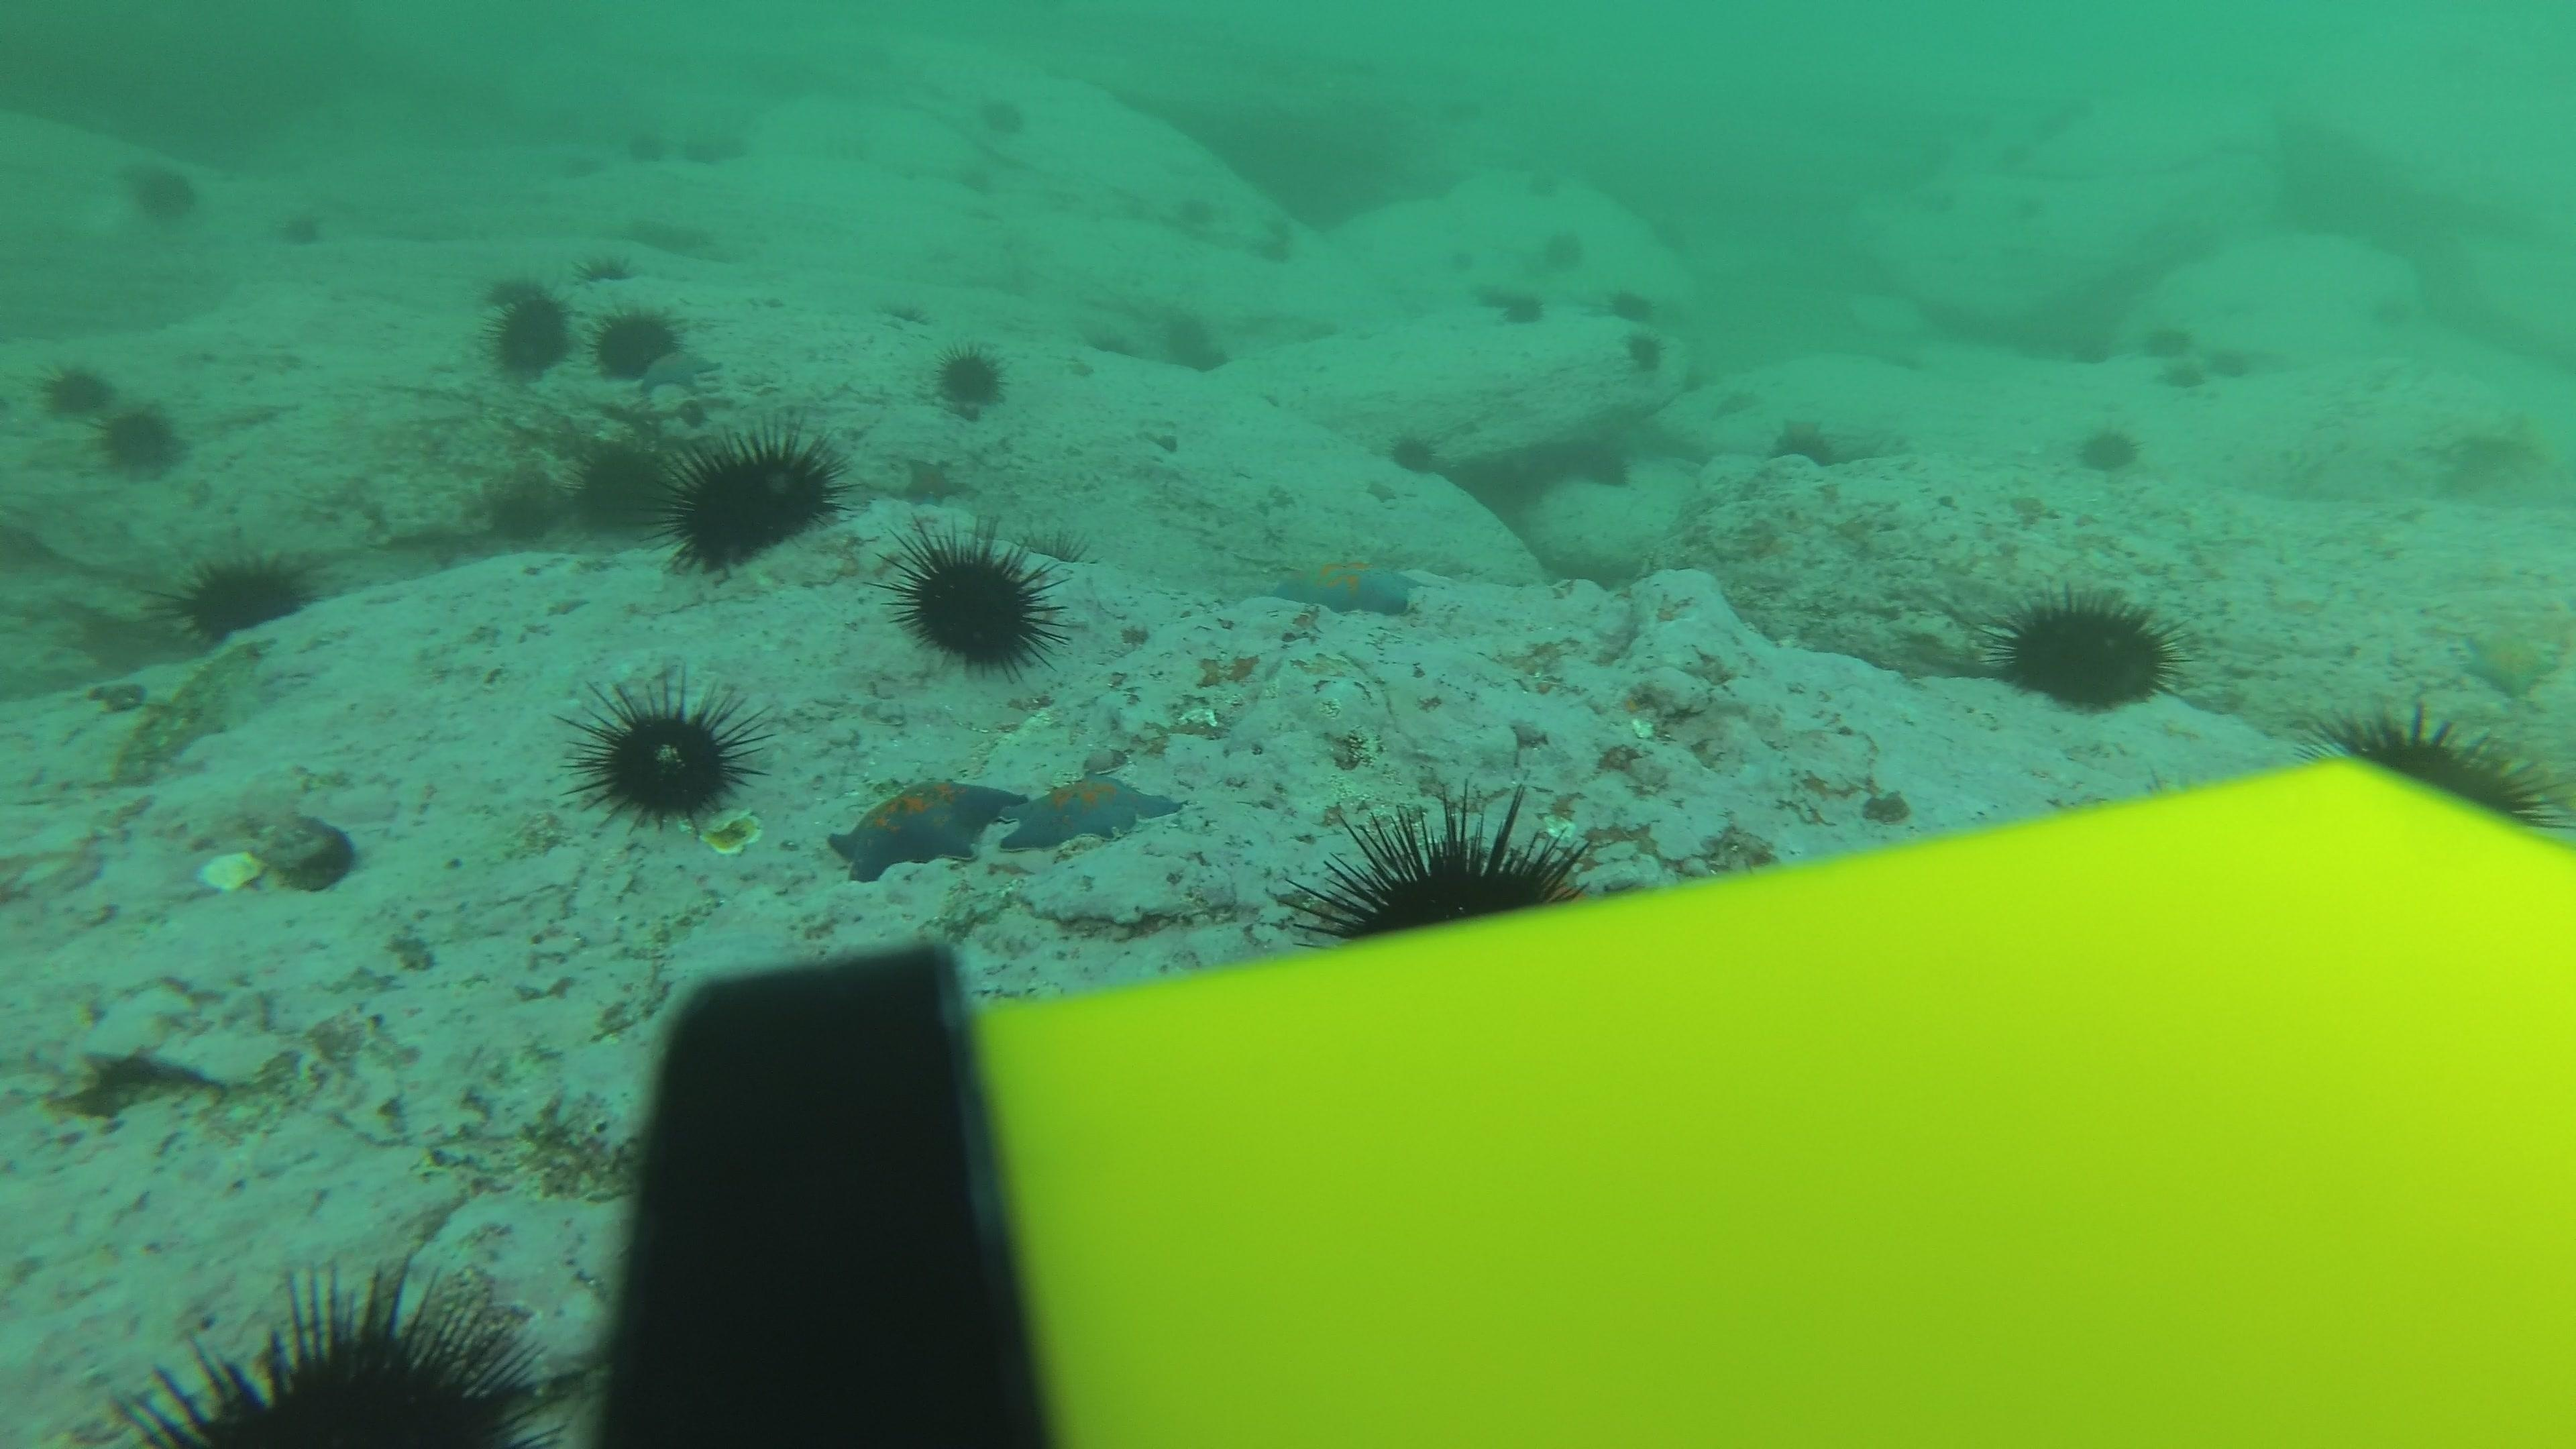echinus: (124, 1258, 550, 1444), (1297, 789, 1596, 941), (2316, 697, 2558, 842), (570, 674, 761, 830), (658, 425, 844, 575), (890, 524, 1063, 678), (1992, 584, 2183, 717), (173, 547, 315, 648), (559, 426, 679, 527), (481, 278, 571, 380), (37, 356, 136, 448), (94, 396, 196, 483), (591, 301, 686, 384), (929, 340, 1010, 416), (120, 156, 203, 228), (2072, 418, 2143, 479), (566, 248, 637, 292), (1385, 425, 1444, 478), (1497, 288, 1555, 341), (1529, 219, 1587, 272), (1598, 271, 1656, 324), (1608, 322, 1667, 375), (1580, 441, 1638, 494), (1511, 156, 1569, 209), (2137, 313, 2196, 366), (2151, 352, 2210, 405), (2203, 341, 2261, 395), (1999, 182, 2058, 235), (1155, 306, 1214, 357), (1247, 228, 1306, 280), (1769, 435, 1831, 483), (1169, 188, 1228, 230), (564, 142, 616, 184), (274, 207, 327, 248), (616, 126, 667, 166), (671, 133, 722, 173), (699, 122, 750, 163), (978, 96, 1030, 136), (955, 150, 1007, 191), (1985, 136, 2031, 177), (2035, 106, 2081, 147)
holothurian: (1702, 387, 1767, 423)
starfish: (826, 771, 1030, 886), (993, 768, 1189, 858), (1265, 548, 1422, 623), (594, 303, 702, 389), (2454, 619, 2564, 701), (639, 343, 720, 395), (899, 455, 959, 508), (1769, 407, 1831, 444), (1361, 476, 1407, 508)
